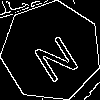N: (26, 26, 82, 85)
